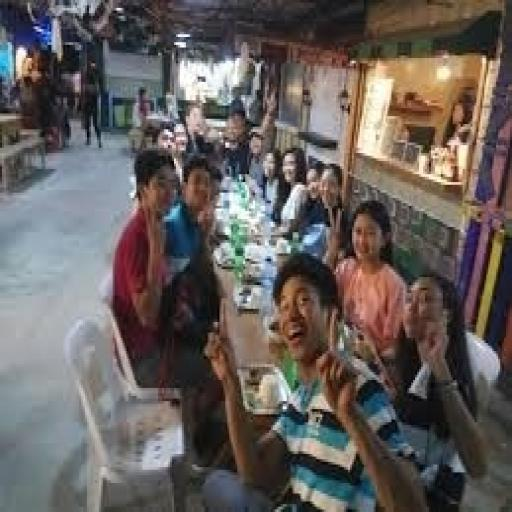sitting: (67, 95, 506, 507)
